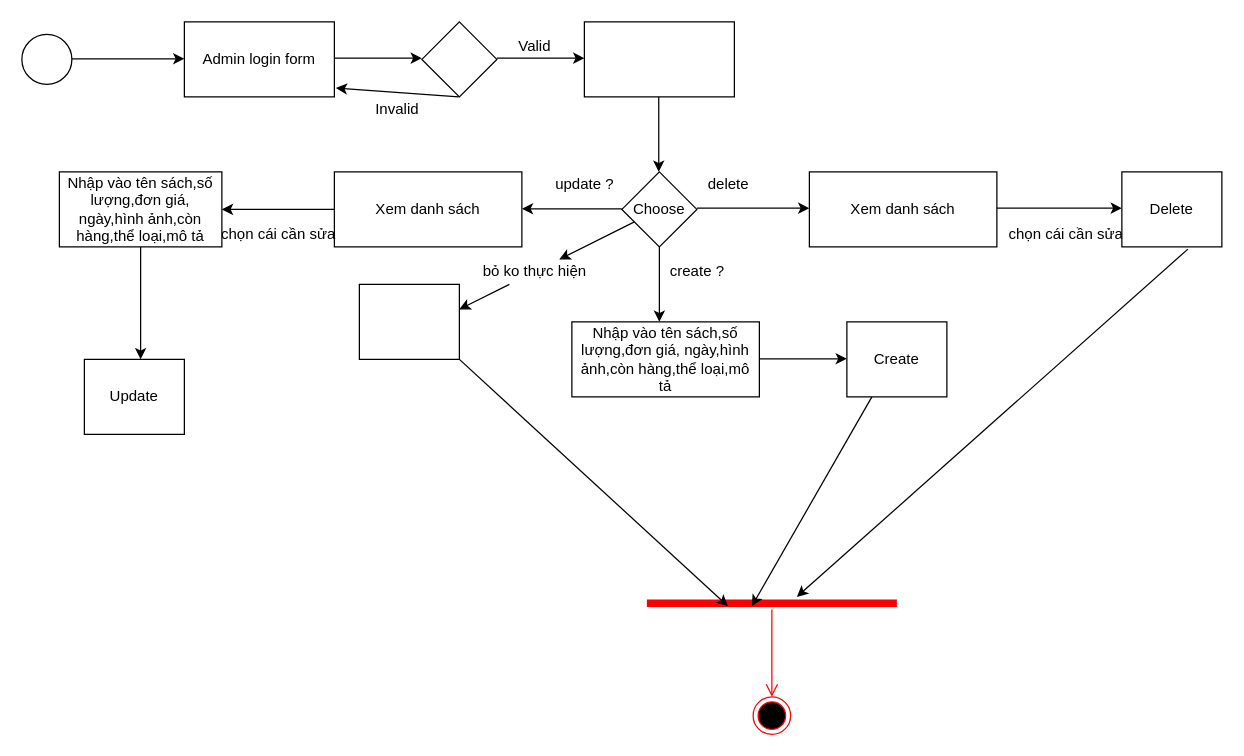
Image size: 1244x756. Some labels were removed from this diagram. Here are the shapes that lost their labels. From the top down, the centre of each, then its label:
At pixel 46 58: "Start".
At pixel 459 59: "Check".
At pixel 658 59: "Form quản lí sản phẩm".
At pixel 408 321: "Reset".
